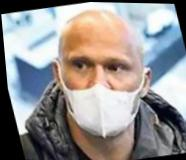WRONG: (50, 36, 154, 144)
